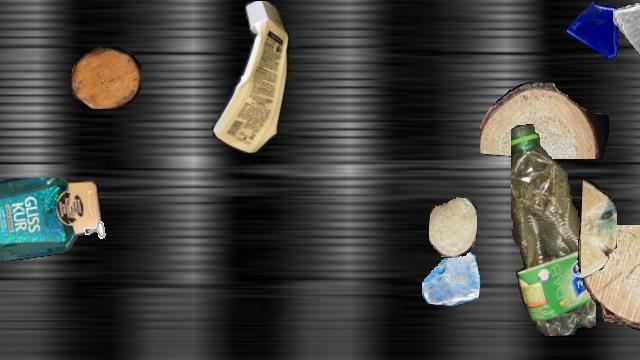glass: (565, 1, 629, 65), (422, 247, 480, 305), (613, 1, 640, 73)
metal: (75, 197, 119, 241)
plastic: (511, 123, 595, 335), (206, 1, 294, 153), (0, 178, 101, 260)
wood: (480, 82, 608, 158), (577, 225, 640, 331), (71, 47, 141, 109), (581, 180, 617, 278), (429, 197, 477, 257)
